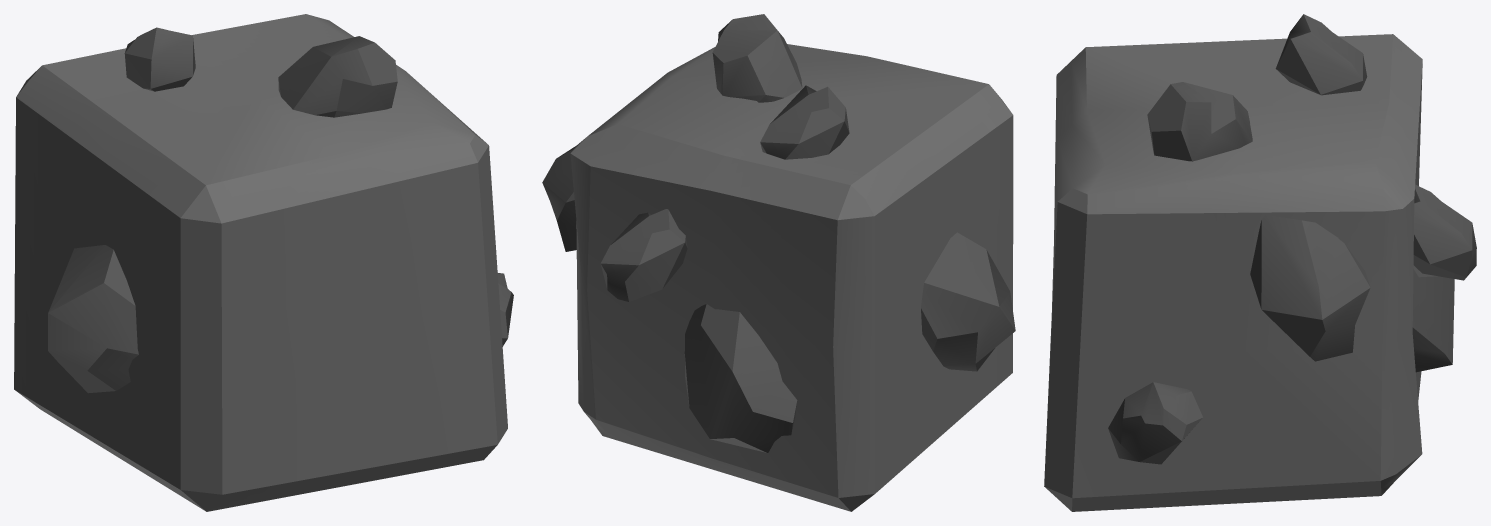
File: Rock_F_1.obj
The picture shows the model from 3 angles, left to right: view 1: azimuth 30°, elevation 25°; view 2: azimuth 150°, elevation 25°; view 3: azimuth 270°, elevation 25°; orthographic projection. The views are drawn at different scales.
Parts seen in each view (by area): view 1: Cube.022; view 2: Cube.022; view 3: Cube.022.
Part boxes in pixels (x1,y1,x2,y2): Cube.022: (14, 14, 513, 511); Cube.022: (542, 14, 1015, 511); Cube.022: (1044, 14, 1476, 511).
Size of the model in its own units: 2.77 by 2.37 by 2.35.
